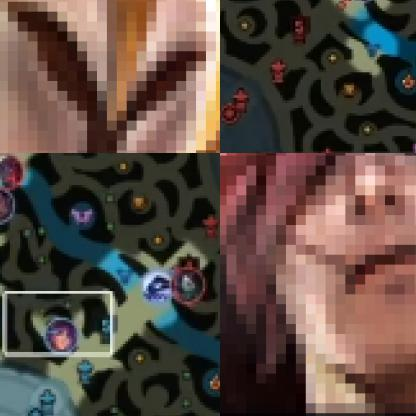Akali: (171, 266, 206, 304)
Darius: (0, 188, 17, 224)
Kayle: (0, 0, 219, 152)
Lillia: (43, 318, 80, 356)
Sett: (220, 153, 415, 415)
Xerath: (139, 271, 176, 306)
Yone: (0, 153, 26, 192)
